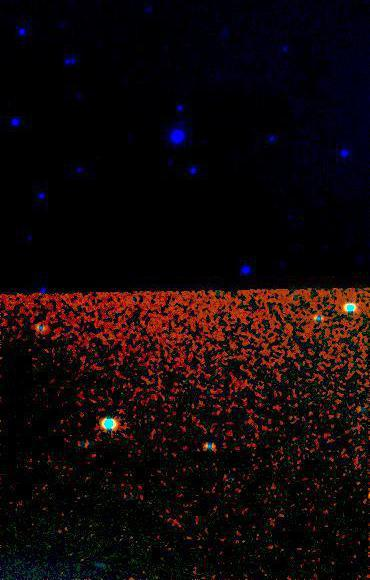star: (112, 371, 142, 401)
